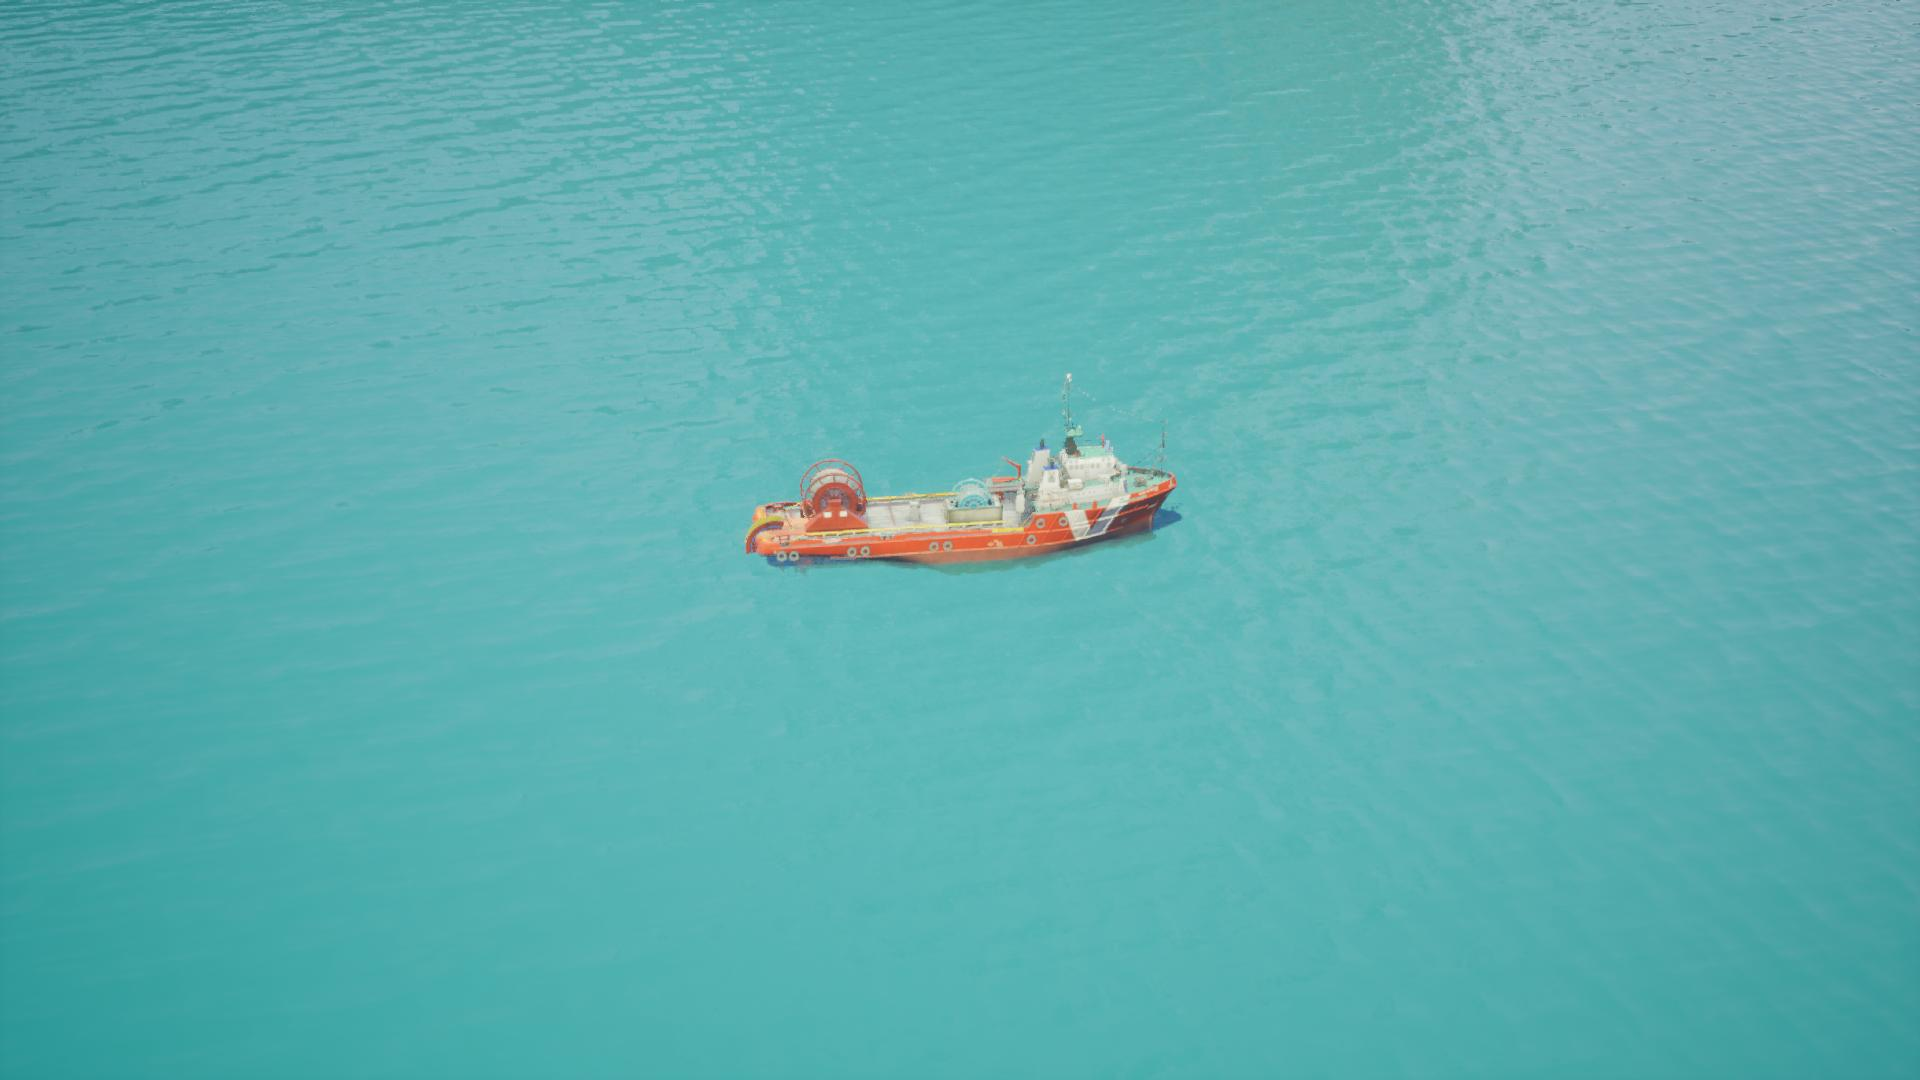Tug Boat: (741, 373, 1211, 625)
